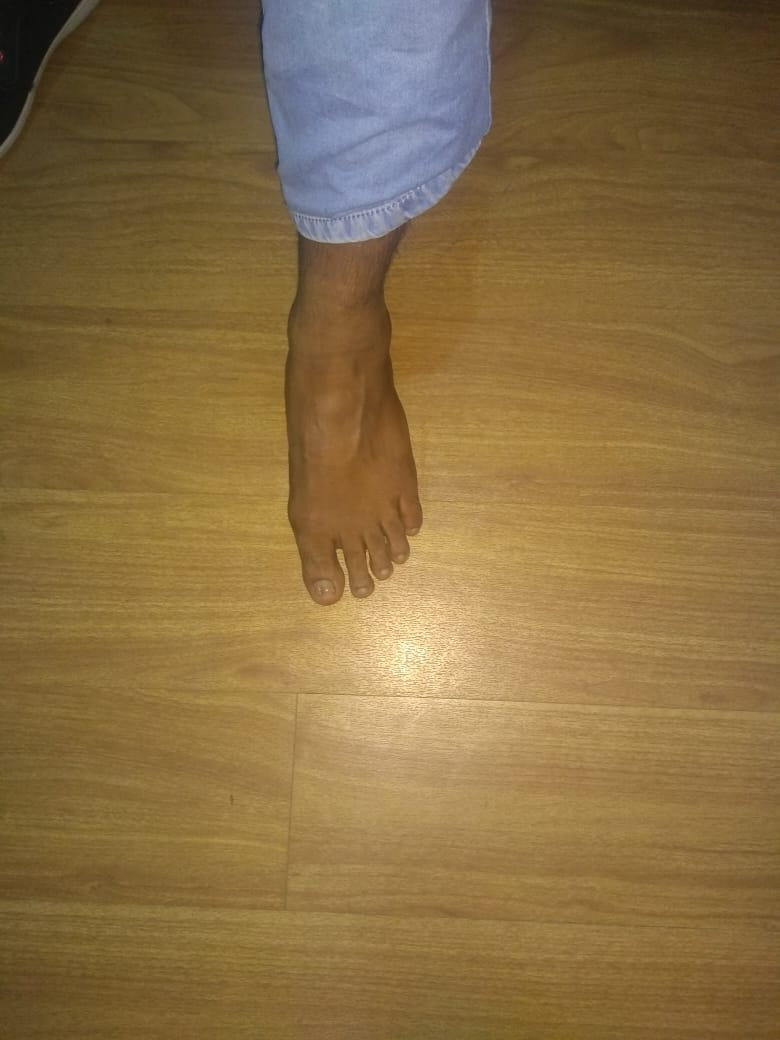feet: (231, 248, 434, 619)
